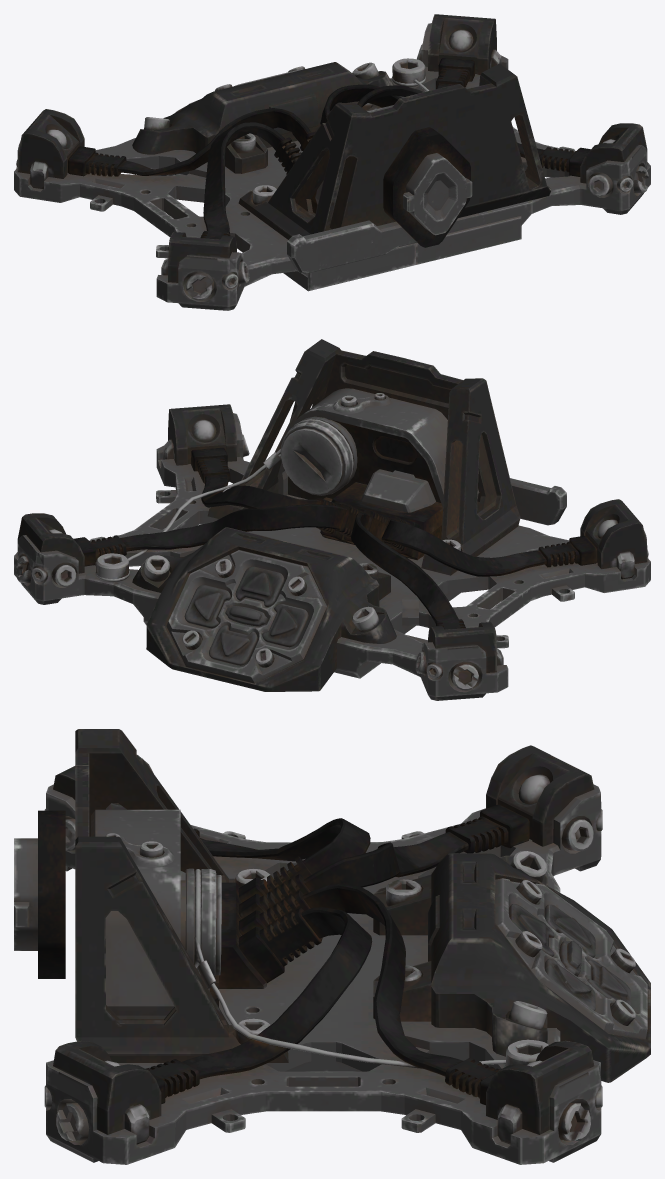
Rendered from Screen_4.glb.
The picture shows the model from 3 angles, top to bottom: view 1: azimuth 30°, elevation 25°; view 2: azimuth 150°, elevation 25°; view 3: azimuth 270°, elevation 25°; orthographic projection. The views are drawn at different scales.
Parts seen in each view (by area): view 1: Screen_4; view 2: Screen_4; view 3: Screen_4.
Boxes of the visible parts, x1=… form: Screen_4: x1=14, y1=14, x2=650, y2=310; Screen_4: x1=14, y1=339, x2=650, y2=700; Screen_4: x1=14, y1=729, x2=650, y2=1164.
Bounding box in the file's own units: 0.1279 × 0.0526 × 0.1006.
Materials: 1 (1 with a texture image).
